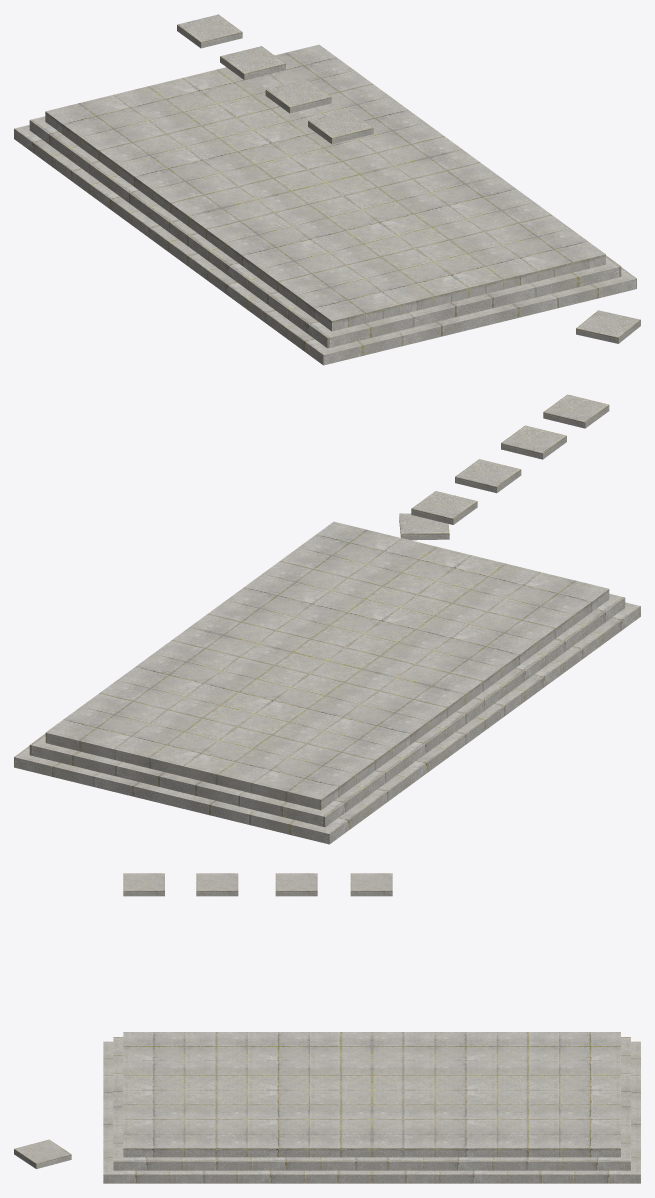
The model's file is temple_unfinished.dae.
3 views of the same model, one above another, from view 1: azimuth 30°, elevation 25°; view 2: azimuth 150°, elevation 25°; view 3: azimuth 270°, elevation 25° (orthographic). The views are drawn at different scales.
Visible parts, largest first — view 1: Doric_Capital_05-Pivot; view 2: Doric_Capital_05-Pivot; view 3: Doric_Capital_05-Pivot.
Part boxes in pixels (box(x1,y1,x2,y2)): Doric_Capital_05-Pivot: box(14, 14, 640, 365); Doric_Capital_05-Pivot: box(14, 394, 640, 844); Doric_Capital_05-Pivot: box(14, 873, 640, 1183).
Bounding box in the file's own units: 16.93 × 33.73 × 11.06.
